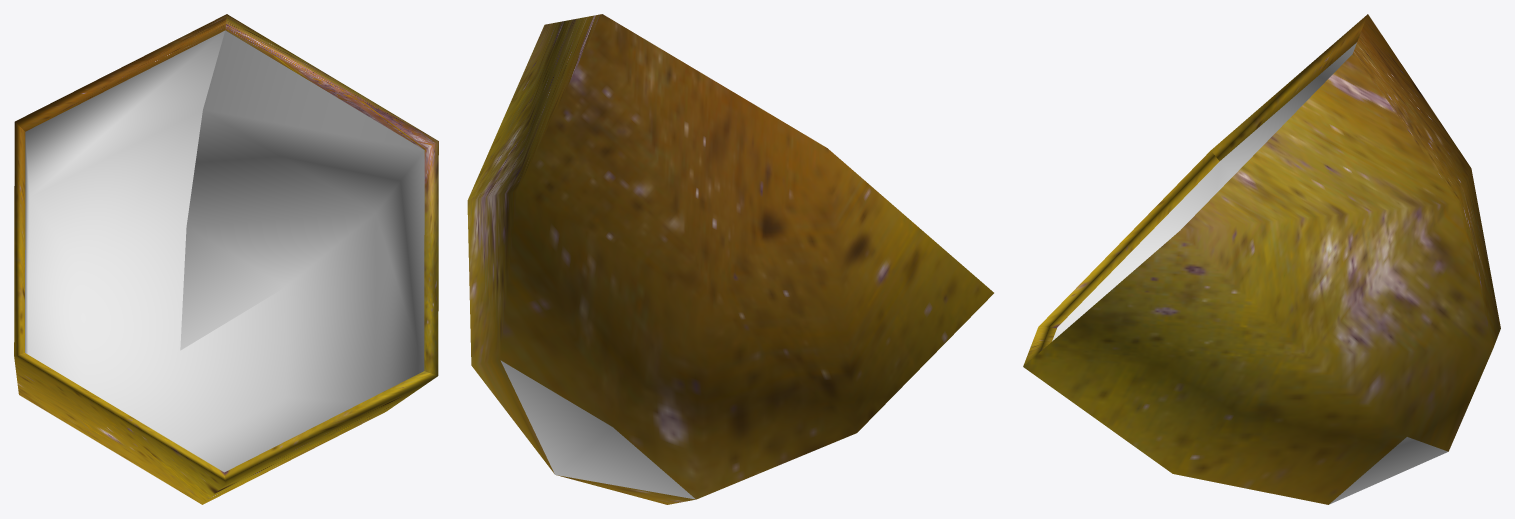
Rendered from BrokenCoco.fbx.
The picture shows the model from 3 angles, left to right: view 1: azimuth 30°, elevation 25°; view 2: azimuth 150°, elevation 25°; view 3: azimuth 270°, elevation 25°; orthographic projection. The views are drawn at different scales.
Visible parts, largest first — view 1: pasted__polySurface83; view 2: pasted__polySurface83; view 3: pasted__polySurface83.
Boxes of the visible parts, left/top/right/bottom form: pasted__polySurface83: left=14, top=14, right=438, bottom=504; pasted__polySurface83: left=467, top=14, right=993, bottom=504; pasted__polySurface83: left=1023, top=14, right=1500, bottom=504.
Bounding box in the file's own units: 16.1 × 15.66 × 14.85.
